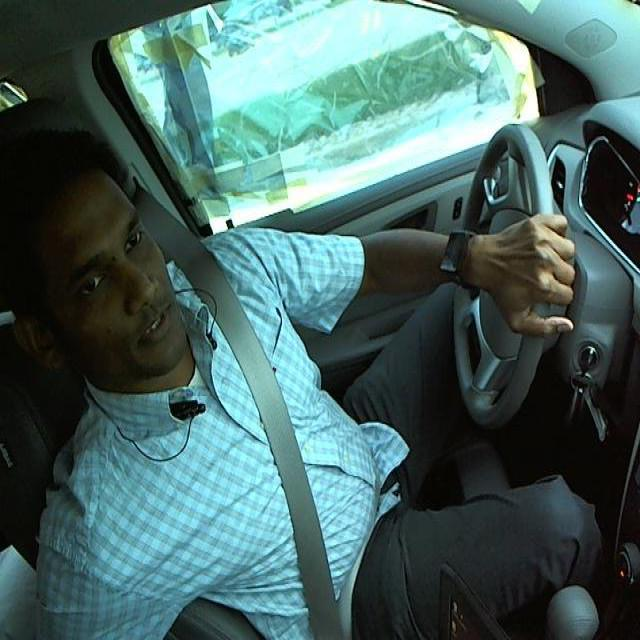seatbelt: (205, 289, 338, 624)
